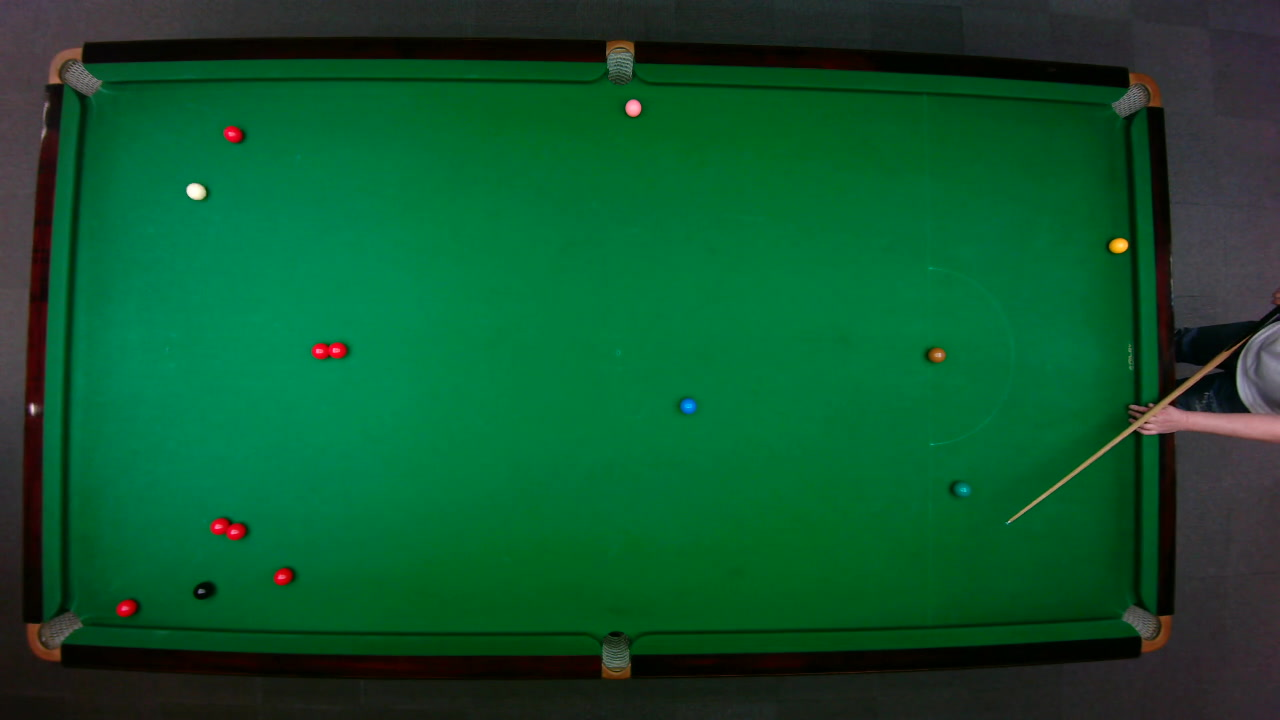bag: (25, 609, 84, 662), (46, 46, 102, 96), (1118, 603, 1172, 652), (1108, 71, 1162, 118), (600, 629, 629, 680), (605, 38, 633, 85)
black: (192, 581, 212, 600)
blue: (678, 397, 697, 414)
brown: (926, 346, 945, 362)
cue: (1003, 320, 1270, 526)
green: (950, 480, 971, 497)
pink: (623, 97, 642, 117)
red: (224, 520, 247, 540), (114, 597, 137, 617), (324, 340, 347, 359), (208, 516, 230, 535), (272, 566, 294, 585), (310, 341, 331, 360), (222, 124, 243, 143)
white: (184, 181, 208, 200)
yellow: (1107, 236, 1129, 253)
zone: (926, 265, 1014, 445)
